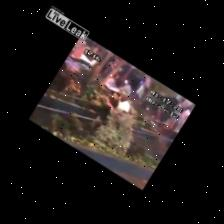person: (91, 92, 120, 130), (117, 93, 130, 112), (120, 81, 132, 95)
